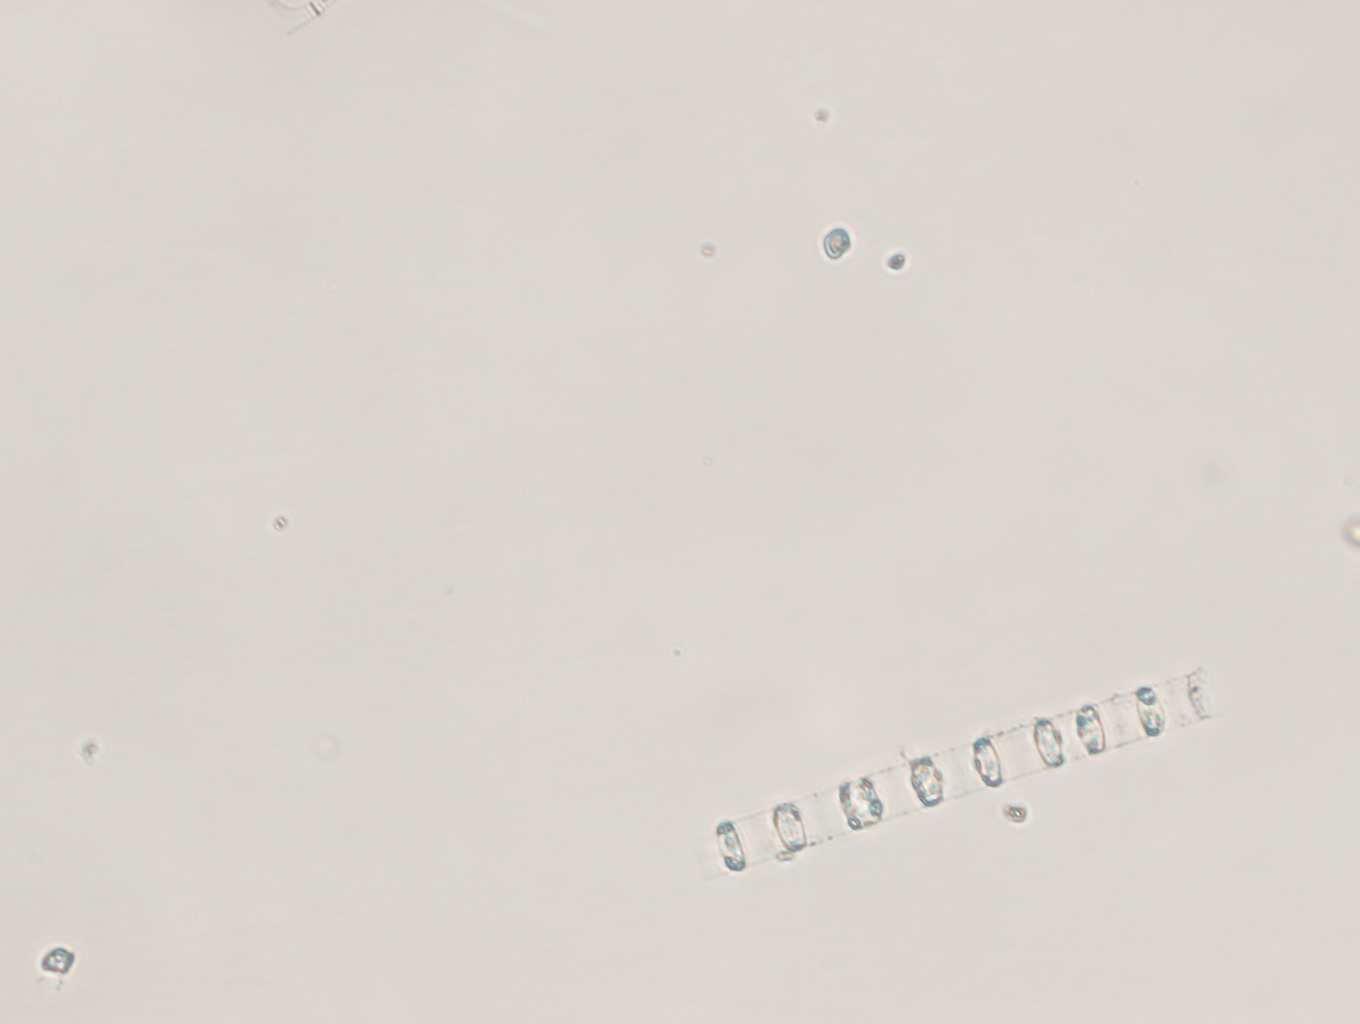skeletonema: (708, 664, 1259, 876)
